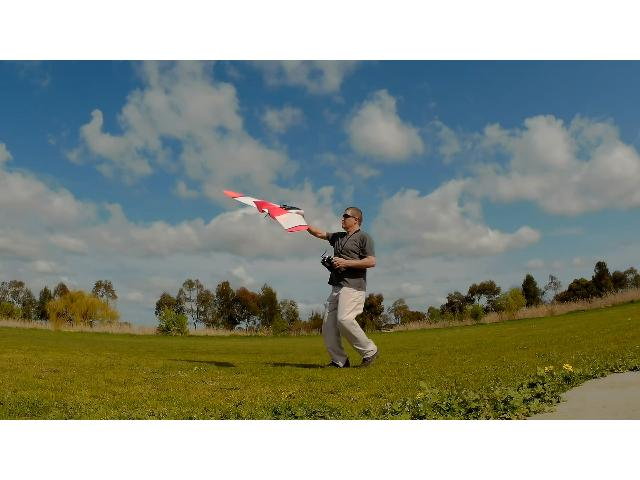Anti-Drone: (220, 175, 320, 242)
